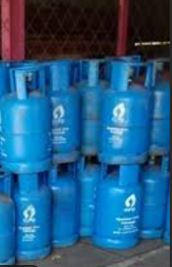blue_gas: (1, 63, 51, 172), (101, 59, 150, 164), (96, 162, 143, 251), (45, 60, 81, 164), (14, 173, 51, 261), (79, 58, 110, 156), (144, 59, 172, 157), (48, 163, 79, 247), (144, 160, 172, 244), (77, 161, 99, 236), (1, 174, 16, 267)
